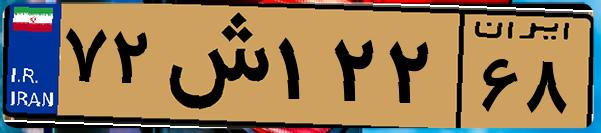1: (270, 28, 330, 110)
2: (385, 28, 445, 110), (330, 28, 385, 110), (110, 28, 158, 98)
6: (475, 38, 525, 113)
7: (57, 26, 110, 100)
8: (525, 38, 570, 115)
ش: (158, 12, 270, 120)
